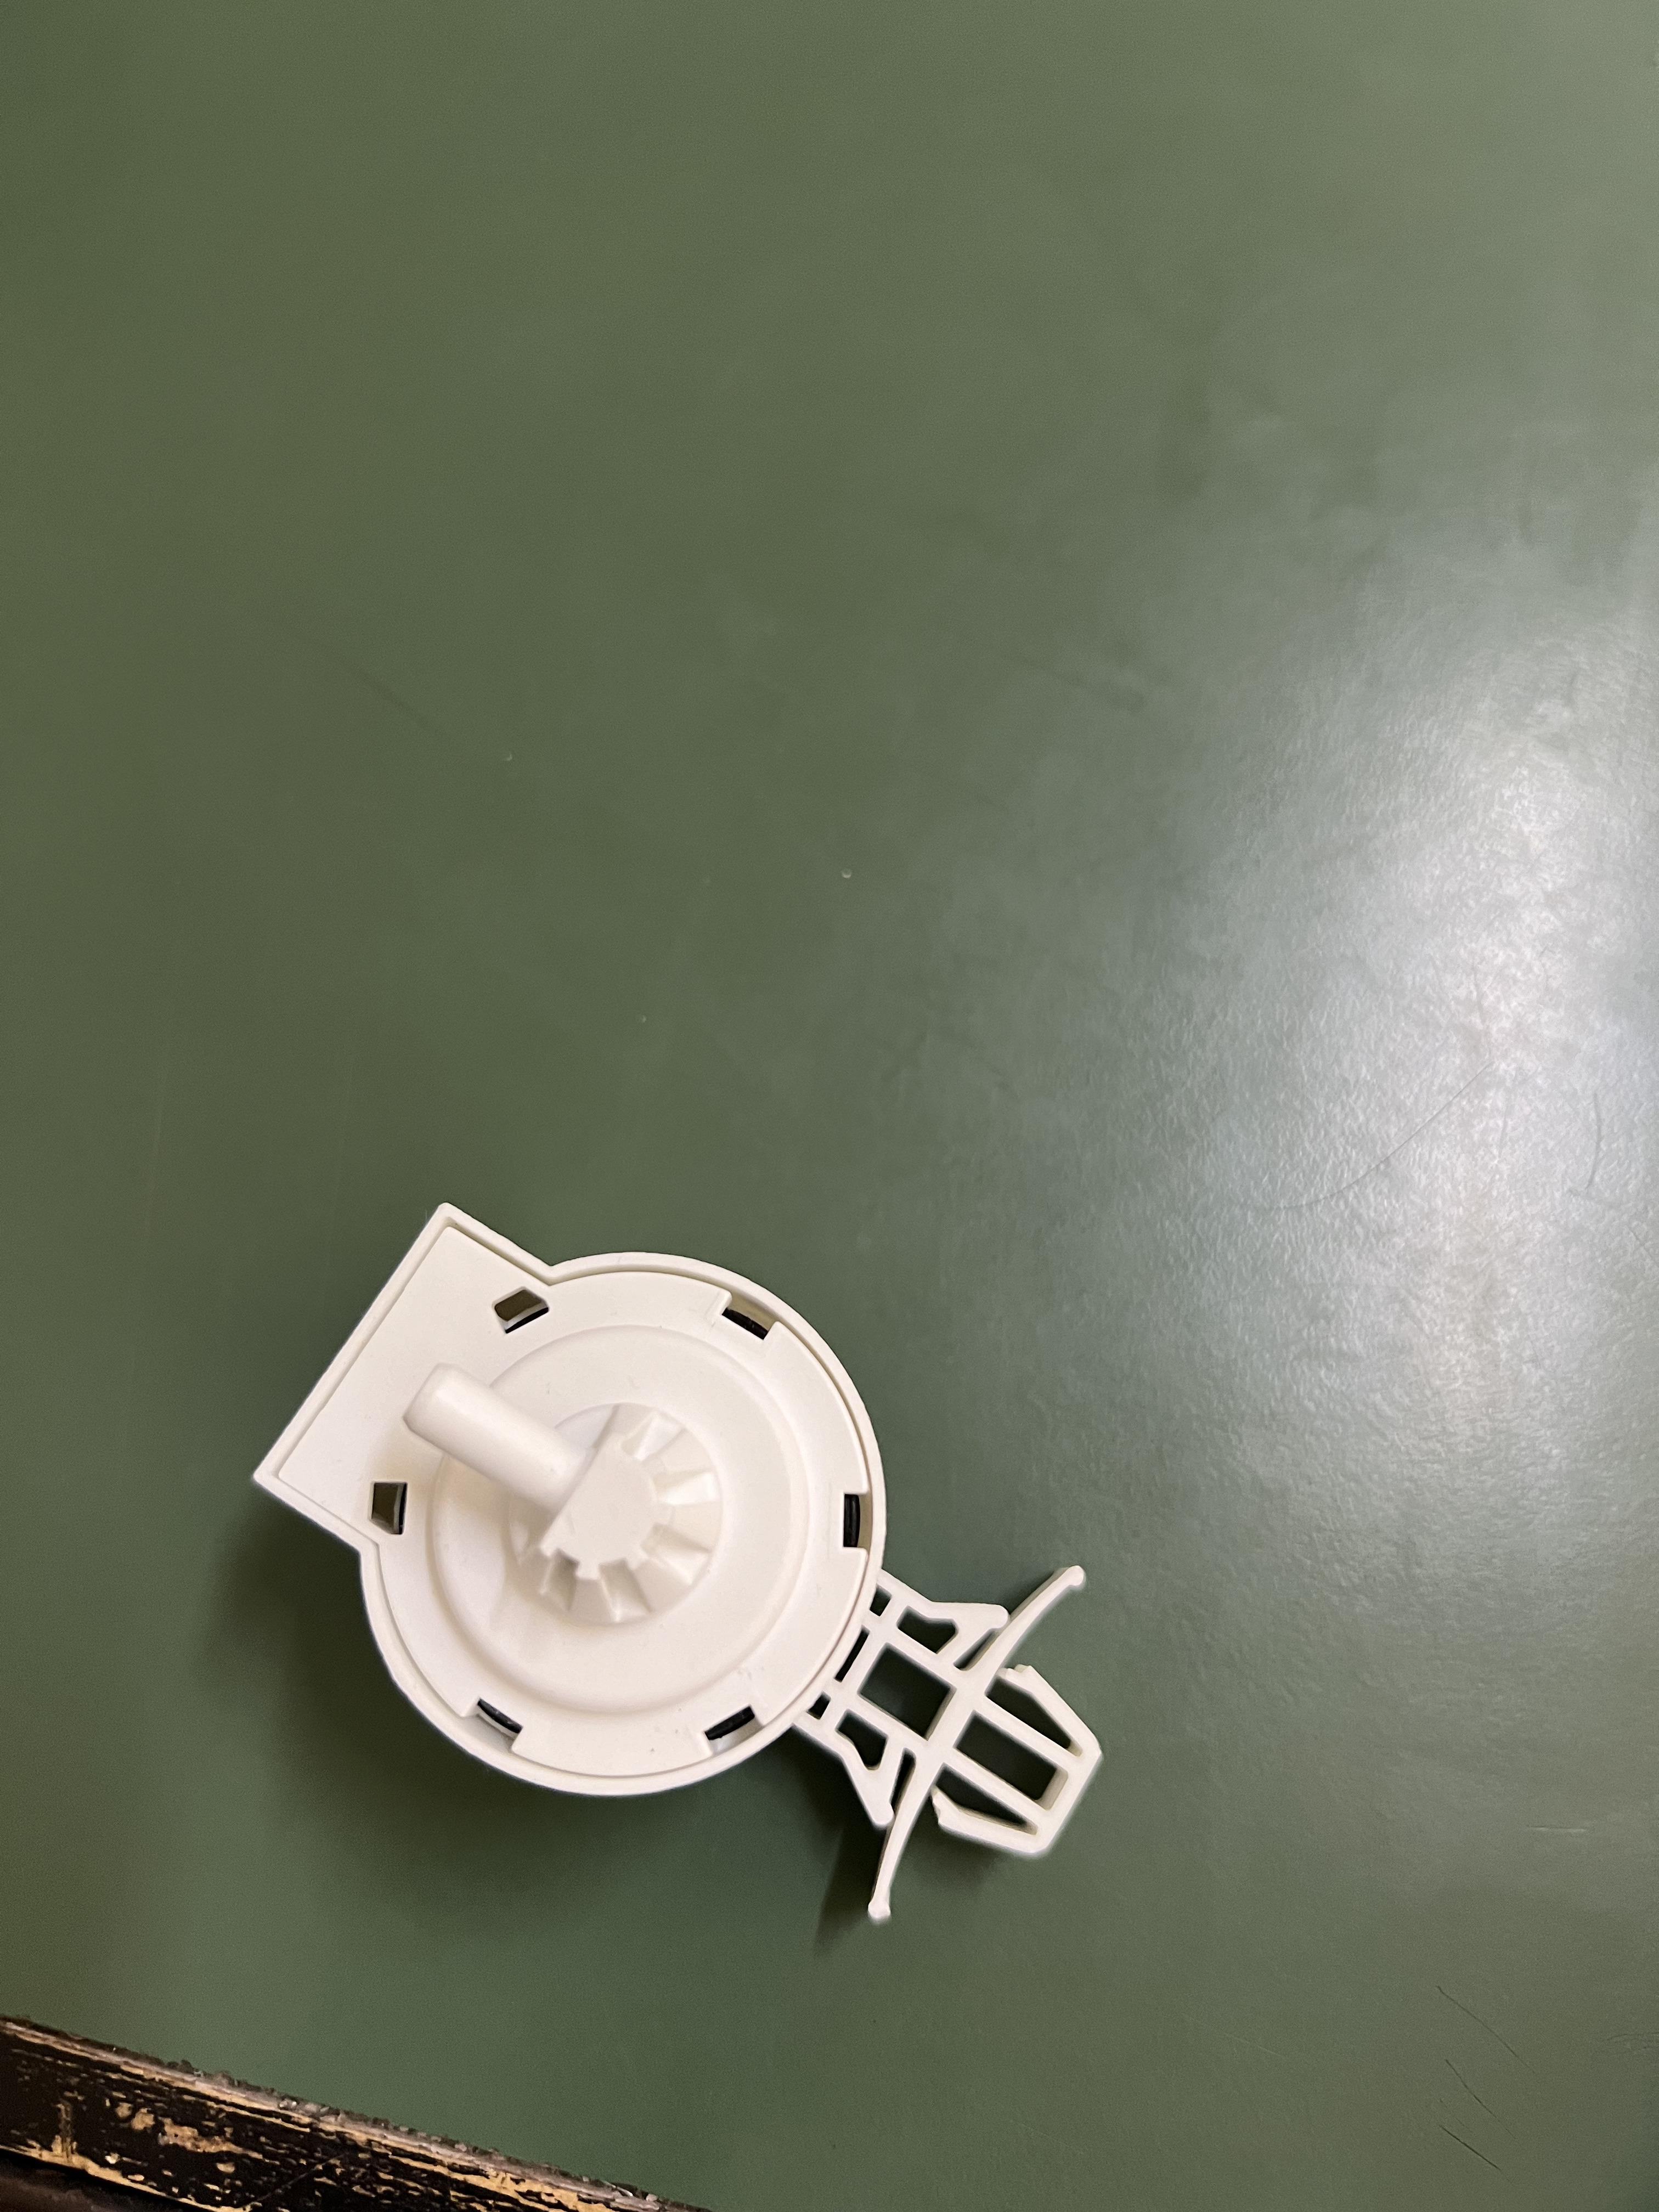pressure_switch_1: (256, 1177, 1166, 1923)
